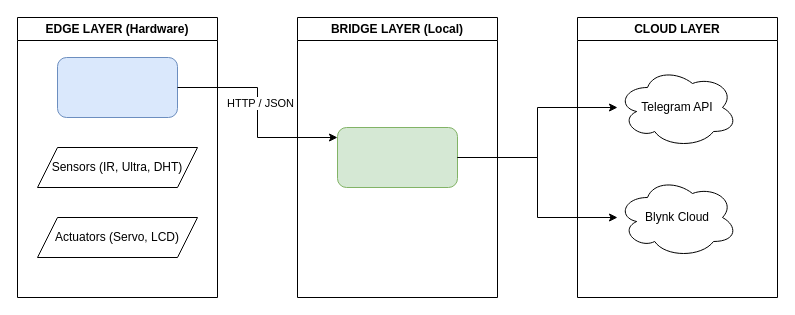
This 795x315 diagram has some shape labels left out. Each missing label, with the centre of its shape:
ESP32 MCU: (x=117, y=87)
Laptop Bridge (Python Script): (x=397, y=157)
